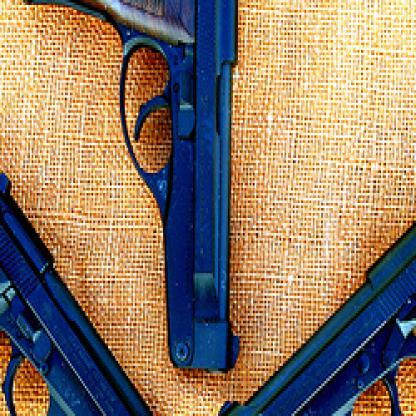gun: (7, 0, 261, 386), (192, 166, 414, 414), (0, 138, 185, 413)
